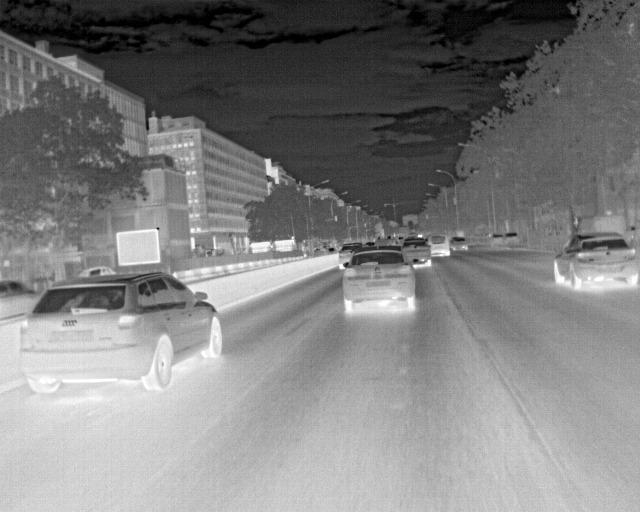car: (20, 271, 223, 394), (553, 232, 639, 290), (343, 246, 416, 311), (573, 215, 626, 235), (0, 278, 38, 301), (402, 238, 431, 266), (338, 242, 365, 270), (428, 234, 450, 256), (78, 266, 117, 277), (449, 237, 468, 251), (504, 232, 519, 247), (492, 234, 504, 246), (325, 247, 338, 255), (396, 237, 404, 244), (364, 242, 377, 246)
light: (454, 198, 457, 205), (335, 215, 338, 222), (426, 214, 428, 220)
sign: (116, 229, 160, 266)
